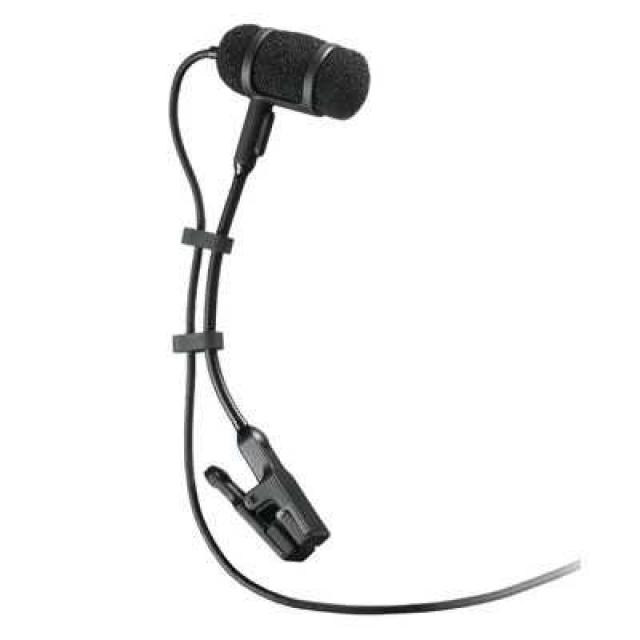microphone: (210, 22, 375, 180)
